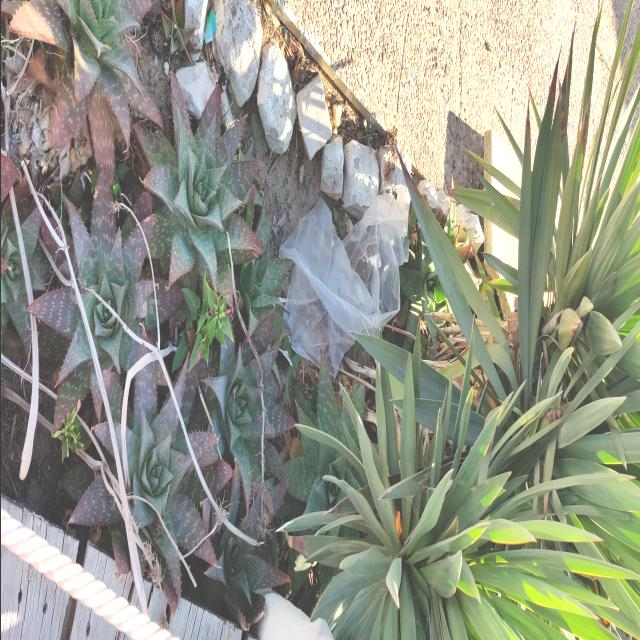Other plastic: (220, 89, 234, 131)
Plastic film: (278, 186, 408, 379), (203, 8, 215, 45)
